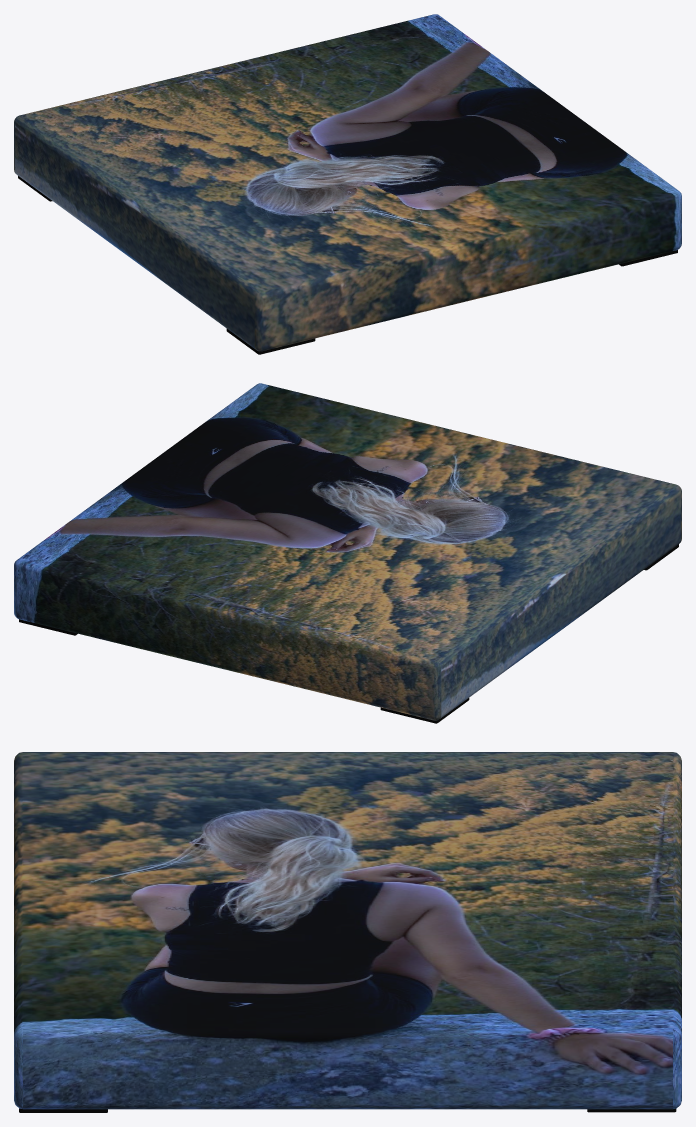
File: canvas.gltf
The picture shows the model from 3 angles, top to bottom: view 1: azimuth 30°, elevation 25°; view 2: azimuth 150°, elevation 25°; view 3: azimuth 270°, elevation 25°; orthographic projection. The views are drawn at different scales.
Parts seen in each view (by area): view 1: ActualCanvas; view 2: ActualCanvas; view 3: ActualCanvas.
Part boxes in pixels (<box>): ActualCanvas: <box>14,14,681,351</box>; ActualCanvas: <box>14,383,681,720</box>; ActualCanvas: <box>14,752,681,1109</box>.
Size of the model in its own units: 30 by 4.41 by 30.
5 materials, 2 textured.
